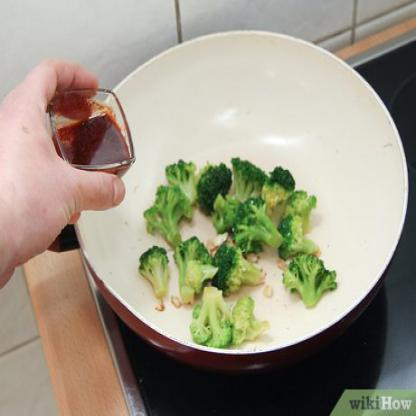broccoli: (138, 154, 338, 350)
